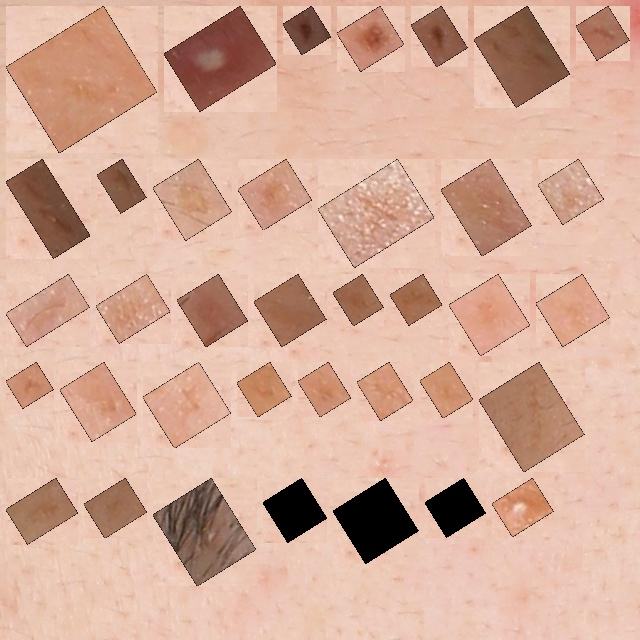melasma: (17, 17, 146, 142), (329, 170, 423, 256), (490, 373, 573, 461), (485, 17, 559, 96), (452, 170, 520, 245), (17, 170, 79, 247), (154, 373, 220, 437), (344, 489, 407, 552), (460, 285, 519, 345), (164, 170, 221, 229), (71, 373, 125, 430), (17, 285, 78, 335), (547, 285, 599, 335), (249, 170, 301, 219), (265, 285, 315, 335), (188, 285, 237, 336), (107, 285, 159, 332), (17, 489, 67, 533), (549, 170, 593, 213), (274, 489, 316, 531), (95, 489, 136, 527), (436, 489, 475, 526), (368, 373, 402, 409), (248, 373, 280, 406), (431, 373, 462, 407), (309, 373, 340, 406), (587, 17, 618, 49), (401, 285, 431, 314), (108, 170, 135, 202), (344, 285, 372, 315), (17, 373, 42, 397)
nevus: (164, 489, 245, 575), (348, 17, 393, 60), (422, 17, 456, 56), (294, 17, 320, 44)
pustule: (175, 17, 265, 100), (503, 489, 542, 525)
